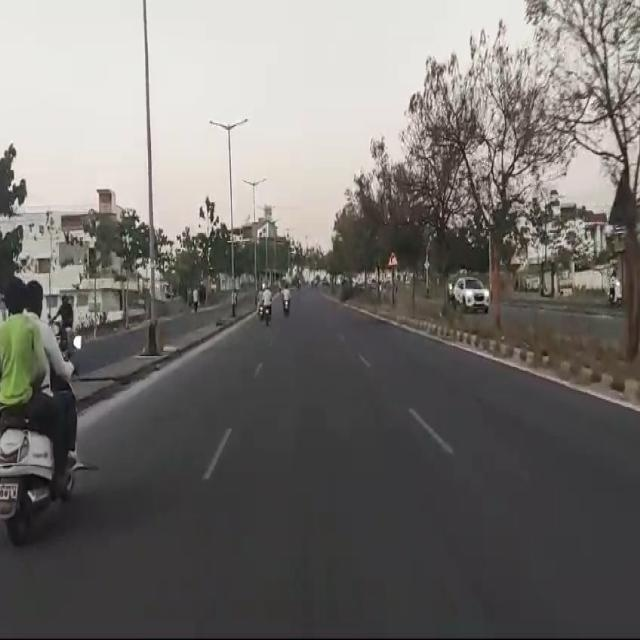bien_nguy_hiem: (386, 246, 398, 269)
